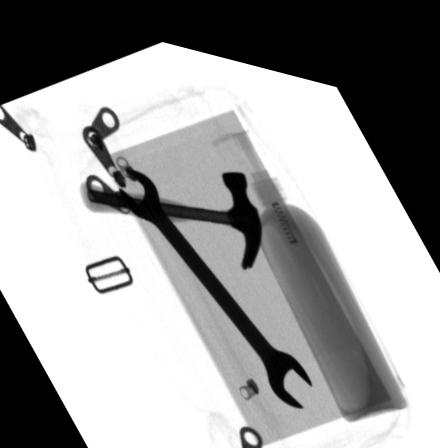Hammer: (77, 158, 263, 257)
Wrench: (117, 161, 312, 394)
